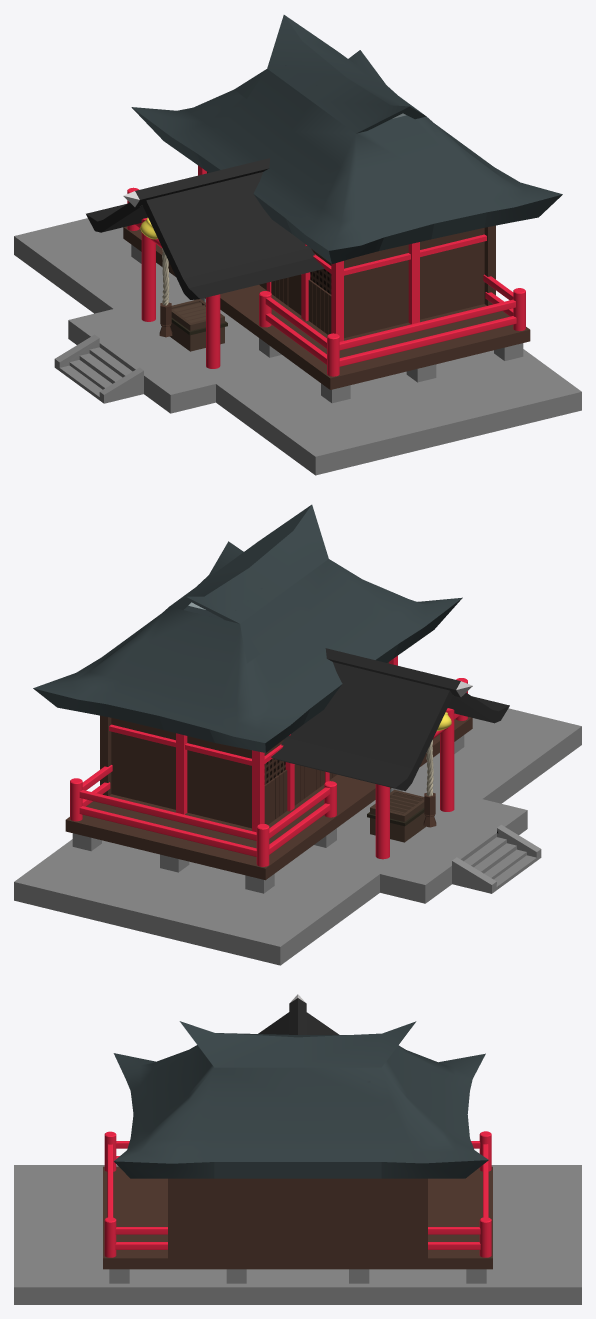
Rendered from shurine_01.fbx.
The picture shows the model from 3 angles, top to bottom: view 1: azimuth 30°, elevation 25°; view 2: azimuth 150°, elevation 25°; view 3: azimuth 270°, elevation 25°; orthographic projection. The views are drawn at different scales.
Parts seen in each view (by area): view 1: pCube1, pCube14, pCube2, pCube40, pCube39, pCylinder24, pCube25, pCylinder1, pCylinder2; view 2: pCube1, pCube14, pCube2, pCube40, pCube39, pCylinder24, pCube25, pCylinder2, pCylinder1; view 3: pCube1, pCube14, pCube40, pCylinder24, pCube2, pCube25.
Part boxes in pixels (<box>): pCube1: <box>123,15,562,389</box>; pCube14: <box>14,218,581,475</box>; pCube2: <box>86,158,324,299</box>; pCube40: <box>135,223,516,366</box>; pCube39: <box>170,299,227,351</box>; pCylinder24: <box>127,187,525,376</box>; pCube25: <box>131,244,523,403</box>; pCylinder1: <box>141,217,155,321</box>; pCylinder2: <box>206,294,220,368</box>; pCube1: <box>33,504,472,880</box>; pCube14: <box>14,708,581,965</box>; pCube2: <box>271,648,509,790</box>; pCube40: <box>79,713,459,856</box>; pCube39: <box>367,789,425,842</box>; pCylinder24: <box>70,678,467,866</box>; pCube25: <box>72,735,464,893</box>; pCylinder2: <box>440,708,454,811</box>; pCylinder1: <box>375,784,389,859</box>; pCube1: <box>103,1021,492,1269</box>; pCube14: <box>14,1165,581,1304</box>; pCube40: <box>107,1141,488,1249</box>; pCylinder24: <box>104,1131,491,1257</box>; pCube2: <box>258,994,339,1034</box>; pCube25: <box>109,1269,486,1283</box>.
Size of the model in its own units: 34.64 by 22.33 by 46.87.
Materials: 1 (1 with a texture image).
